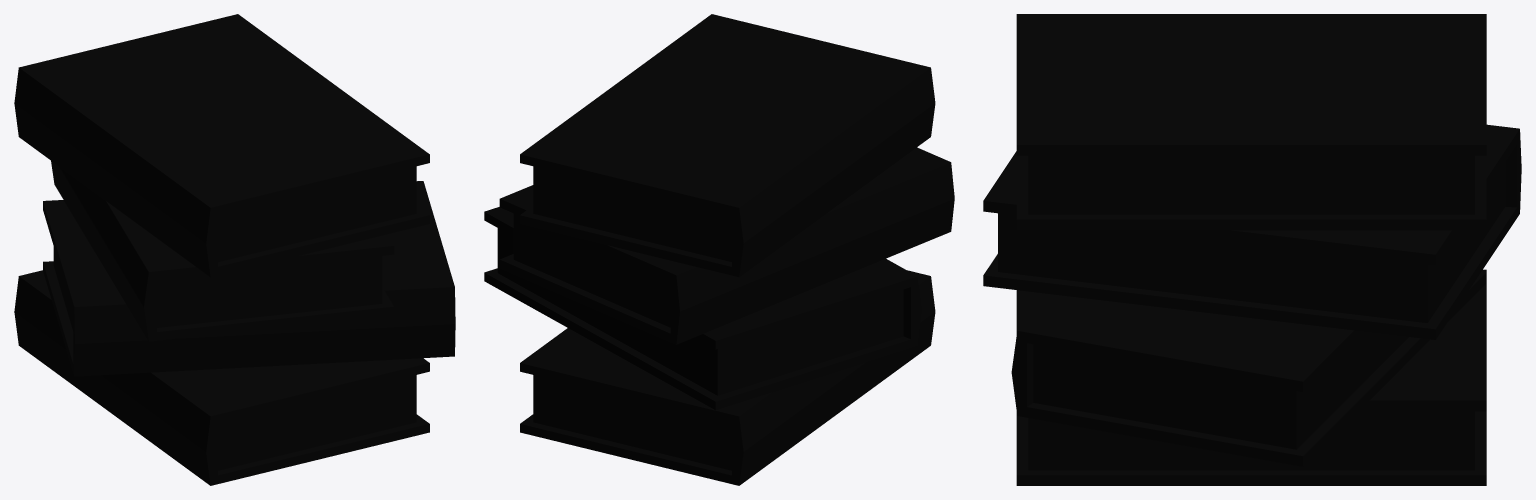
File: SM_Book_5.obj
3 views of the same model, side by side, from view 1: azimuth 30°, elevation 25°; view 2: azimuth 150°, elevation 25°; view 3: azimuth 270°, elevation 25° (orthographic). The views are drawn at different scales.
Visible parts, largest first — view 1: SM_Book_5_M_Texture_Atlas; view 2: SM_Book_5_M_Texture_Atlas; view 3: SM_Book_5_M_Texture_Atlas.
Boxes of the visible parts, x1=… form: SM_Book_5_M_Texture_Atlas: x1=14, y1=14, x2=455, y2=485; SM_Book_5_M_Texture_Atlas: x1=484, y1=14, x2=954, y2=485; SM_Book_5_M_Texture_Atlas: x1=983, y1=14, x2=1521, y2=485.
Size of the model in its own units: 0.5915 by 0.4 by 0.5726.
